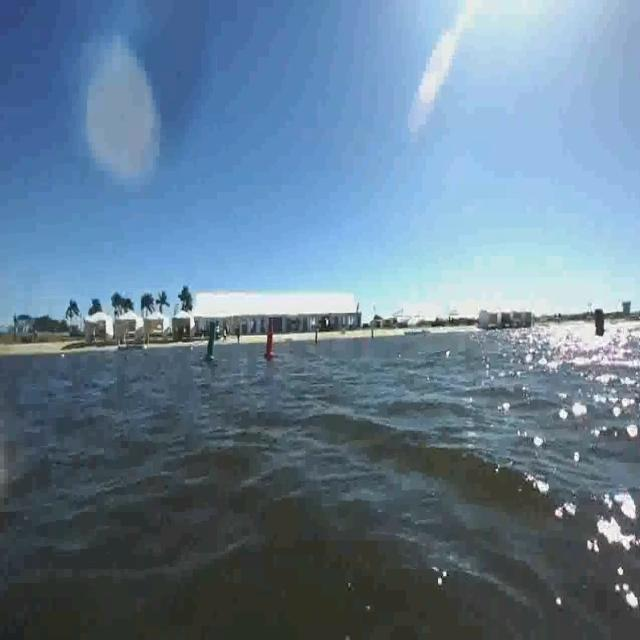green-column-buoy: (204, 320, 219, 363)
red-column-buoy: (265, 322, 278, 362)
